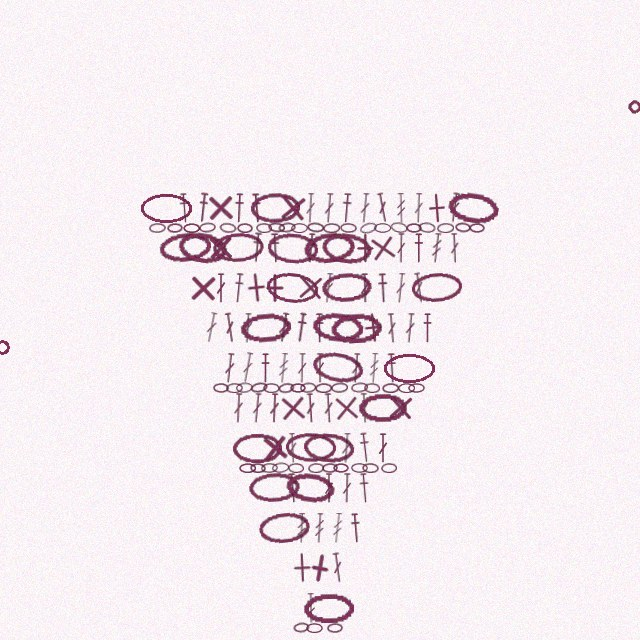chain: (310, 348, 365, 387), (176, 229, 230, 266), (446, 189, 500, 226), (320, 230, 374, 266), (265, 270, 320, 305), (284, 470, 337, 506), (257, 510, 311, 545), (158, 230, 212, 265), (302, 230, 356, 265), (311, 310, 364, 345), (266, 231, 320, 265), (302, 431, 355, 465), (239, 311, 292, 345), (248, 471, 301, 504), (410, 271, 463, 304), (212, 231, 265, 264), (321, 271, 373, 304), (330, 312, 382, 344), (285, 432, 337, 463), (383, 353, 436, 383), (140, 193, 193, 223), (250, 192, 300, 223), (303, 593, 354, 623), (232, 433, 282, 463), (358, 393, 408, 423), (359, 221, 378, 235), (250, 381, 268, 394), (390, 221, 408, 234), (219, 222, 237, 234), (278, 382, 295, 394), (278, 222, 296, 233), (418, 222, 436, 233), (293, 622, 310, 633), (272, 462, 289, 473), (236, 382, 253, 393), (331, 382, 348, 393), (351, 382, 368, 393), (199, 222, 216, 233), (268, 222, 285, 233), (307, 222, 324, 233), (300, 382, 316, 393), (455, 222, 471, 233), (306, 623, 323, 633), (239, 463, 256, 473), (261, 463, 278, 473), (351, 463, 368, 473), (362, 463, 379, 473), (226, 383, 243, 393), (263, 383, 280, 393), (315, 383, 332, 393), (382, 383, 399, 393), (398, 383, 415, 393), (408, 383, 425, 393), (149, 223, 166, 233), (183, 223, 200, 233), (291, 223, 308, 233), (323, 223, 340, 233), (340, 223, 357, 233), (374, 223, 391, 233), (437, 223, 454, 233), (327, 623, 343, 633), (250, 463, 266, 473), (288, 463, 304, 473), (308, 463, 324, 473), (322, 463, 338, 473), (333, 463, 349, 473), (381, 463, 397, 473), (213, 383, 229, 393), (290, 383, 306, 393), (364, 383, 380, 393), (167, 223, 183, 233), (237, 223, 253, 233), (256, 223, 272, 233), (406, 223, 422, 233), (469, 223, 485, 233)
double: (240, 352, 255, 383), (204, 312, 219, 343), (375, 192, 390, 223), (223, 312, 237, 343), (277, 312, 291, 343), (412, 272, 426, 303), (331, 552, 344, 583), (448, 192, 461, 223), (223, 353, 236, 383), (322, 273, 335, 303), (394, 273, 407, 303), (251, 393, 263, 423), (350, 353, 362, 383), (386, 313, 398, 343), (404, 313, 416, 343), (305, 233, 317, 263), (323, 193, 335, 223), (359, 193, 371, 223), (287, 433, 298, 463), (341, 433, 352, 463), (233, 393, 244, 423), (269, 393, 280, 423), (305, 393, 316, 423), (323, 393, 334, 423), (359, 393, 370, 423), (242, 313, 253, 343), (449, 233, 460, 263), (305, 193, 316, 223), (413, 193, 424, 223), (324, 473, 334, 503), (342, 473, 352, 503), (378, 433, 388, 463), (297, 353, 307, 383), (315, 353, 325, 383), (216, 273, 226, 303), (360, 273, 370, 303), (396, 233, 406, 263)
half_double: (294, 312, 309, 343), (358, 432, 372, 463), (250, 232, 264, 263), (196, 192, 210, 223), (349, 513, 362, 543), (286, 473, 299, 503), (358, 473, 371, 503), (232, 273, 245, 303), (178, 193, 191, 223), (250, 193, 263, 223), (340, 193, 353, 223), (386, 353, 398, 383), (377, 273, 389, 303), (269, 233, 281, 263), (233, 193, 245, 223), (260, 353, 271, 383), (314, 313, 325, 343), (422, 313, 433, 343), (413, 233, 424, 263)
noise: (626, 98, 640, 116), (0, 337, 12, 357)
single: (366, 231, 400, 265), (303, 551, 336, 585), (357, 311, 390, 344), (240, 271, 273, 304), (259, 431, 291, 464), (277, 392, 309, 424), (277, 192, 309, 224), (421, 192, 453, 224), (331, 392, 362, 424), (385, 392, 416, 423), (295, 272, 326, 303), (205, 232, 236, 263), (205, 192, 236, 223), (287, 552, 317, 583), (188, 273, 218, 303), (260, 273, 290, 303), (350, 233, 380, 263)
treble: (331, 513, 344, 543), (277, 353, 290, 383), (430, 233, 443, 263), (368, 353, 380, 383), (296, 513, 307, 543), (314, 513, 325, 543), (306, 593, 316, 623), (396, 193, 406, 223)
